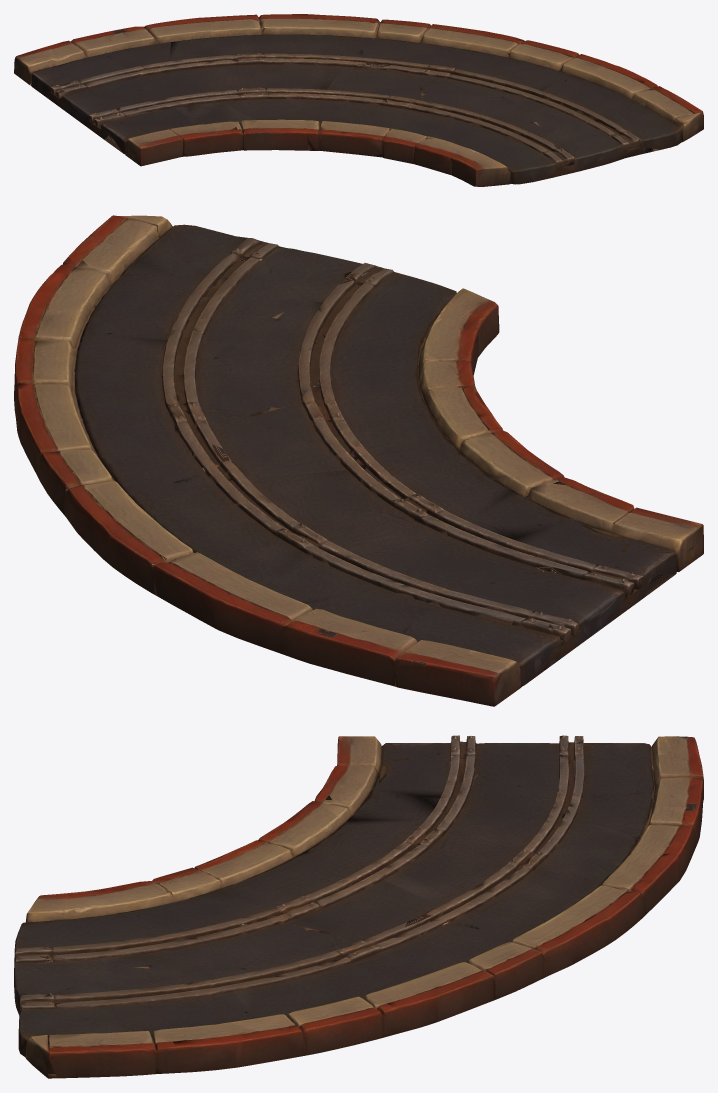
The model's file is streetcar-track-curve.glb.
The picture shows the model from 3 angles, top to bottom: view 1: azimuth 30°, elevation 25°; view 2: azimuth 150°, elevation 25°; view 3: azimuth 270°, elevation 25°; orthographic projection. The views are drawn at different scales.
Visible parts, largest first — view 1: SM_StreetcarTrackCurve; view 2: SM_StreetcarTrackCurve; view 3: SM_StreetcarTrackCurve.
Boxes of the visible parts, left/top/right/bottom form: SM_StreetcarTrackCurve: left=14, top=14, right=703, bottom=186; SM_StreetcarTrackCurve: left=14, top=215, right=703, bottom=706; SM_StreetcarTrackCurve: left=14, top=735, right=703, bottom=1078.
Bounding box in the file's own units: 6.66 × 0.2652 × 6.07.
1 material, 1 textured.
